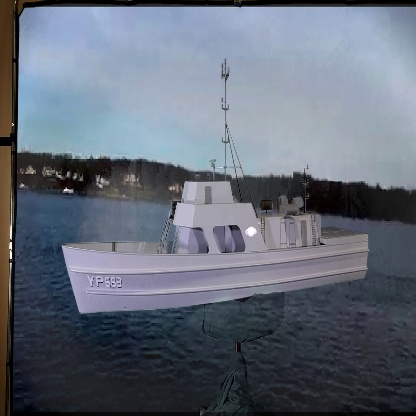YP689: (61, 63, 370, 315)
